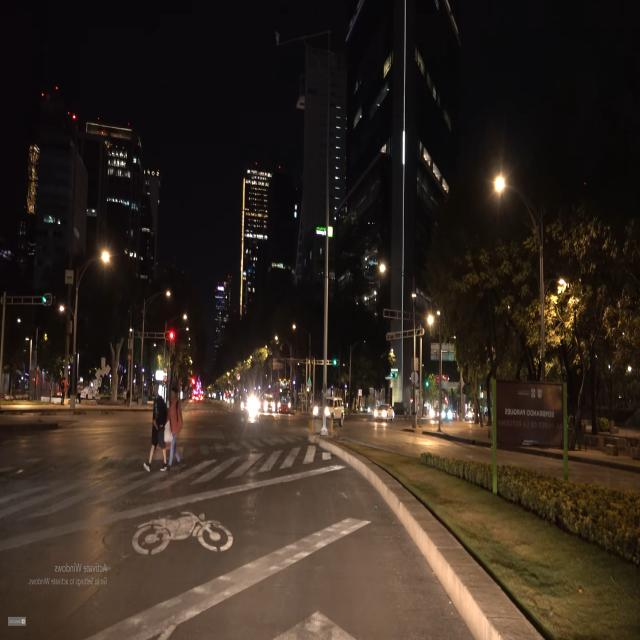headlights: (308, 402, 336, 423), (369, 404, 390, 424)
